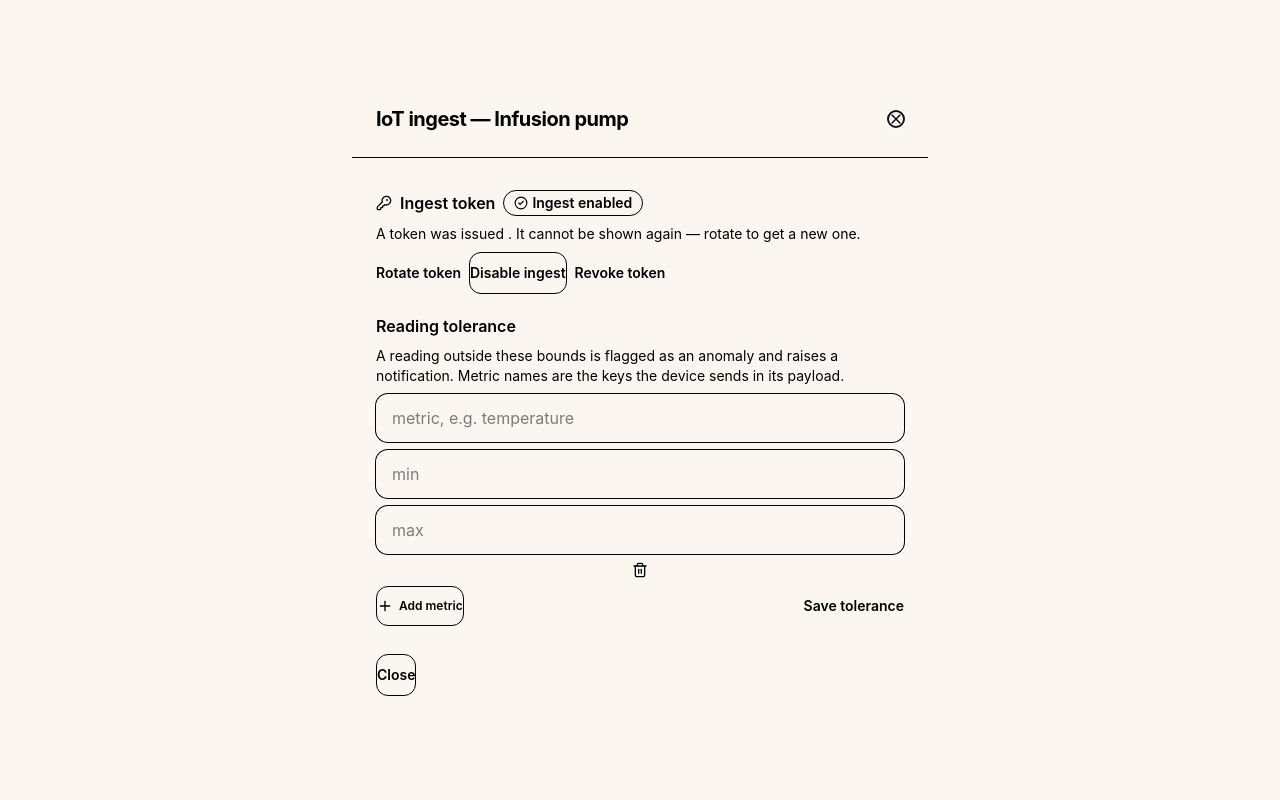
Test: A-29 — IotDeviceModal › A-46: saves the reading tolerance through the API
Type "temperature" into the field named "Metric 1" at (640, 418), box left=376, top=394, right=904, bottom=442
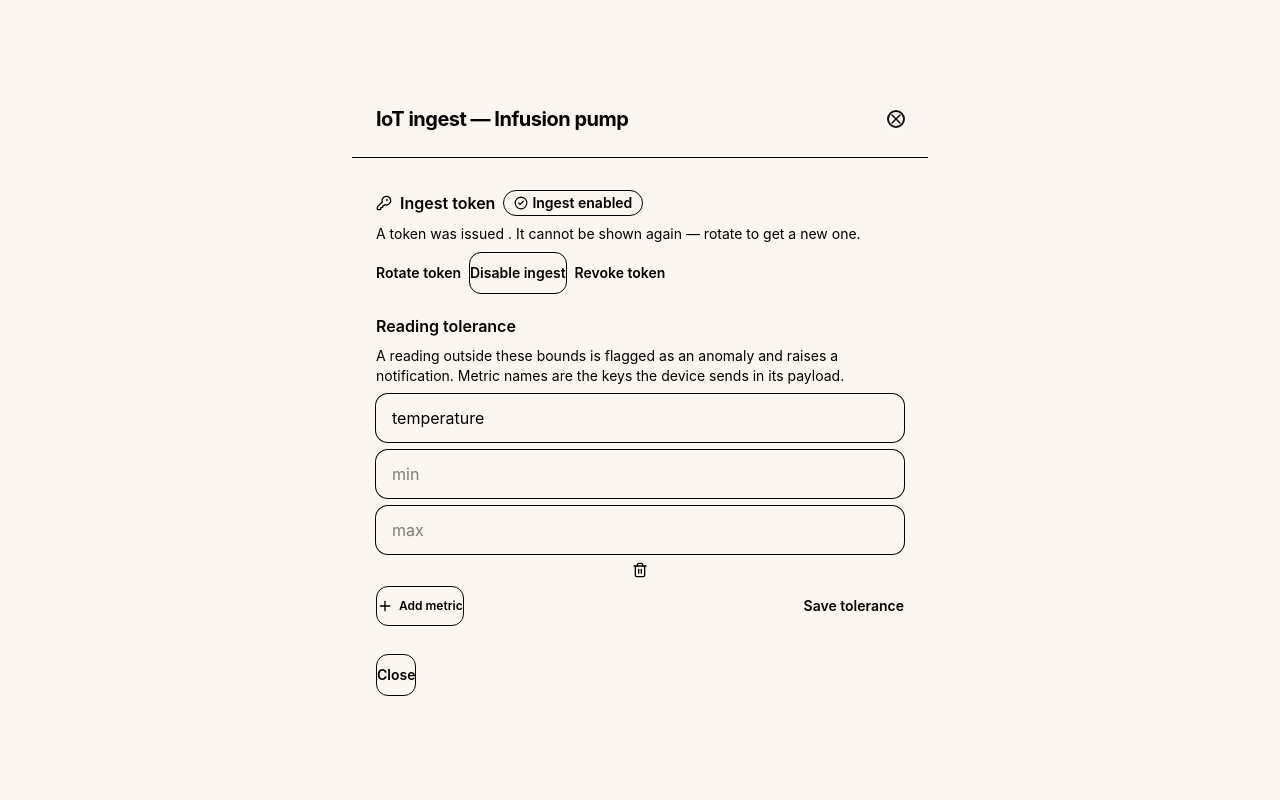
Type "15" into the field named "Min 1" at (640, 474), box left=376, top=450, right=904, bottom=498
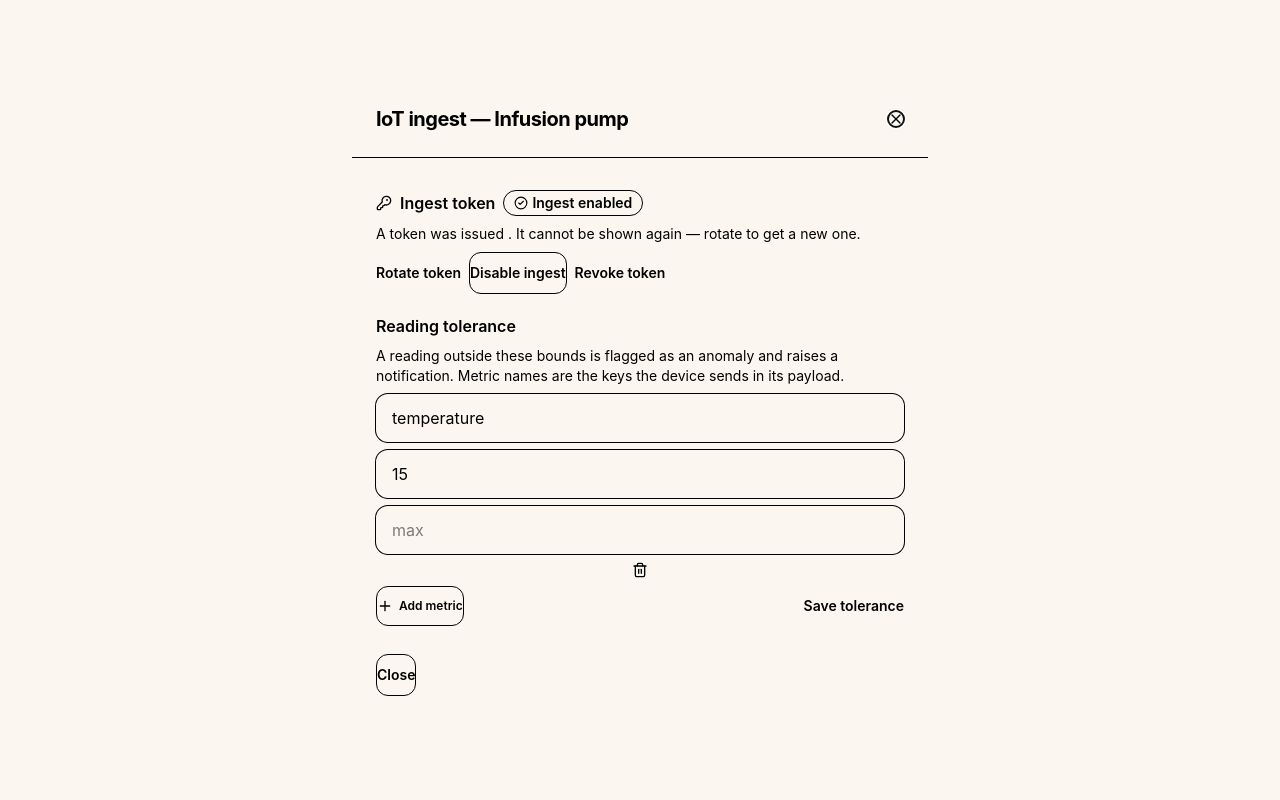
Type "30" into the field named "Max 1" at (640, 530), box left=376, top=506, right=904, bottom=554
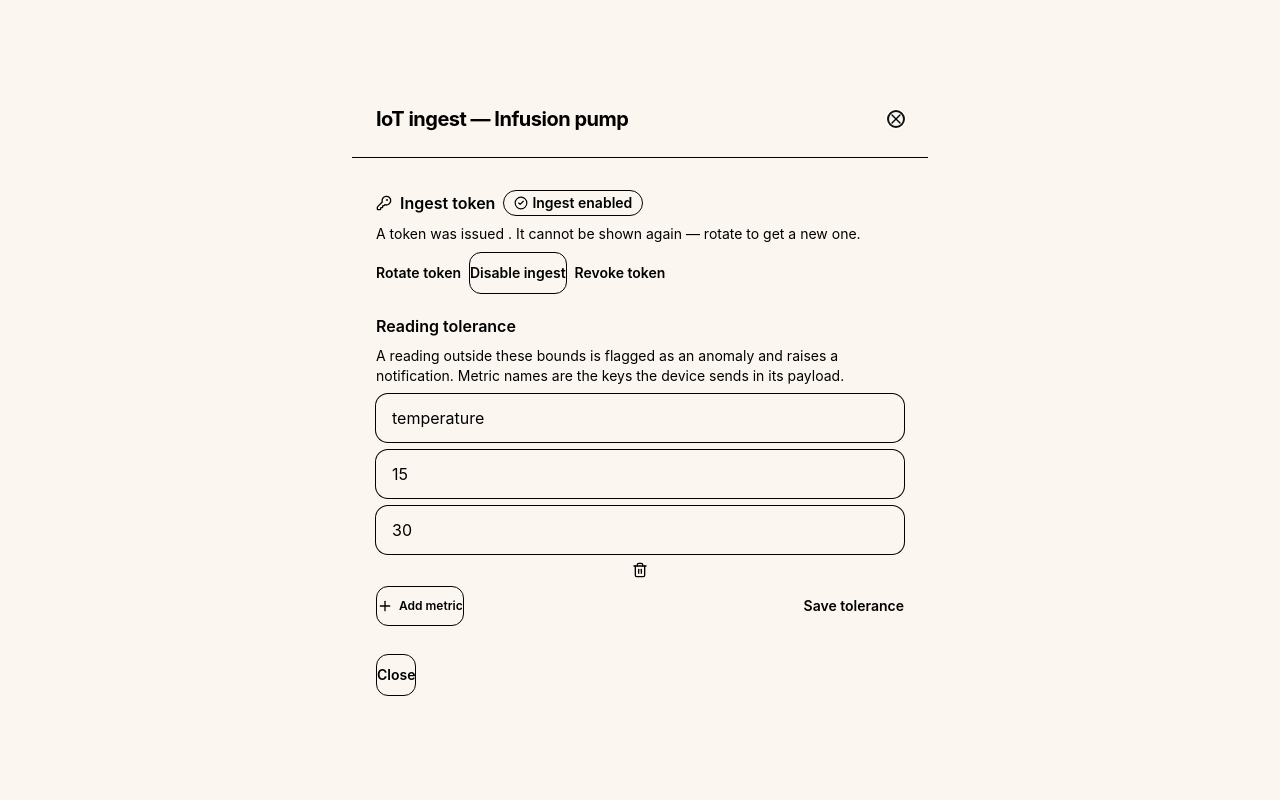
Click the button "Save tolerance" at (854, 606), box left=804, top=586, right=904, bottom=626
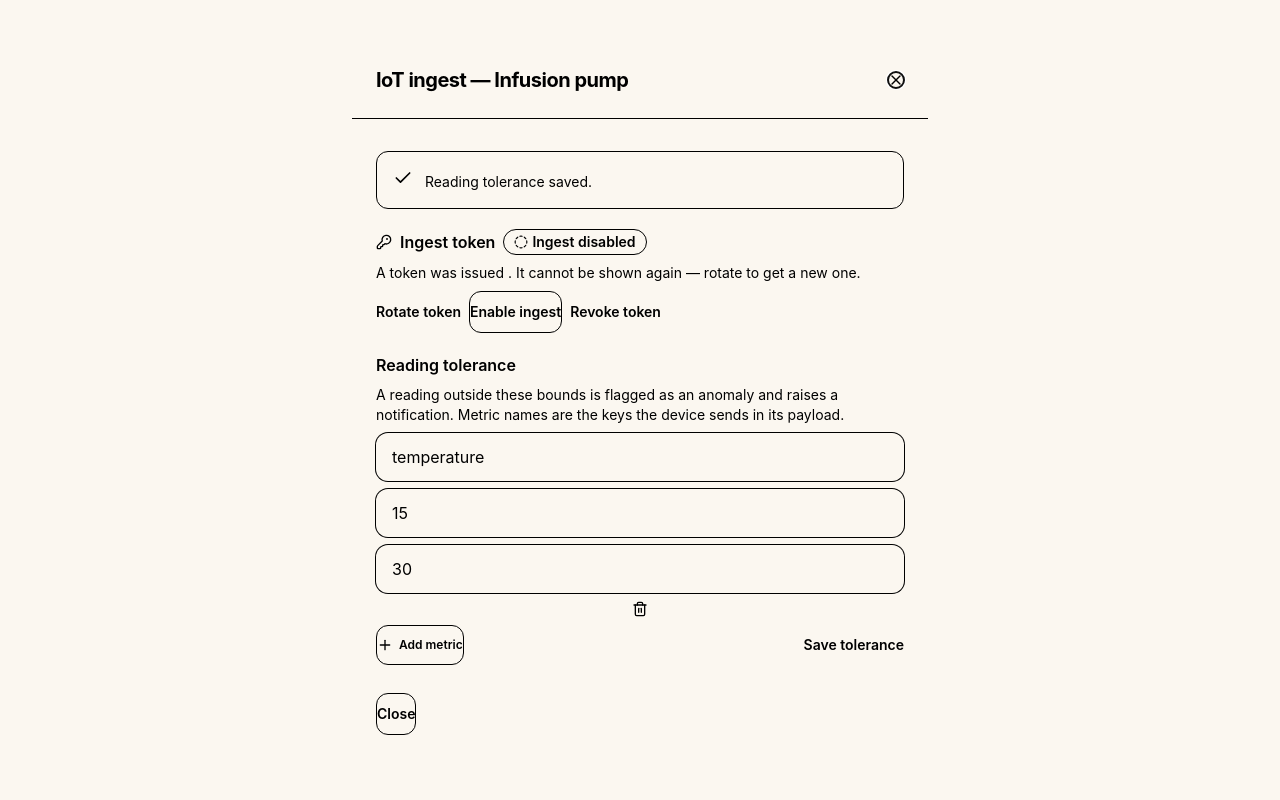
expect the text "Reading tolerance saved." is shown: met, box left=425, top=172, right=592, bottom=190
